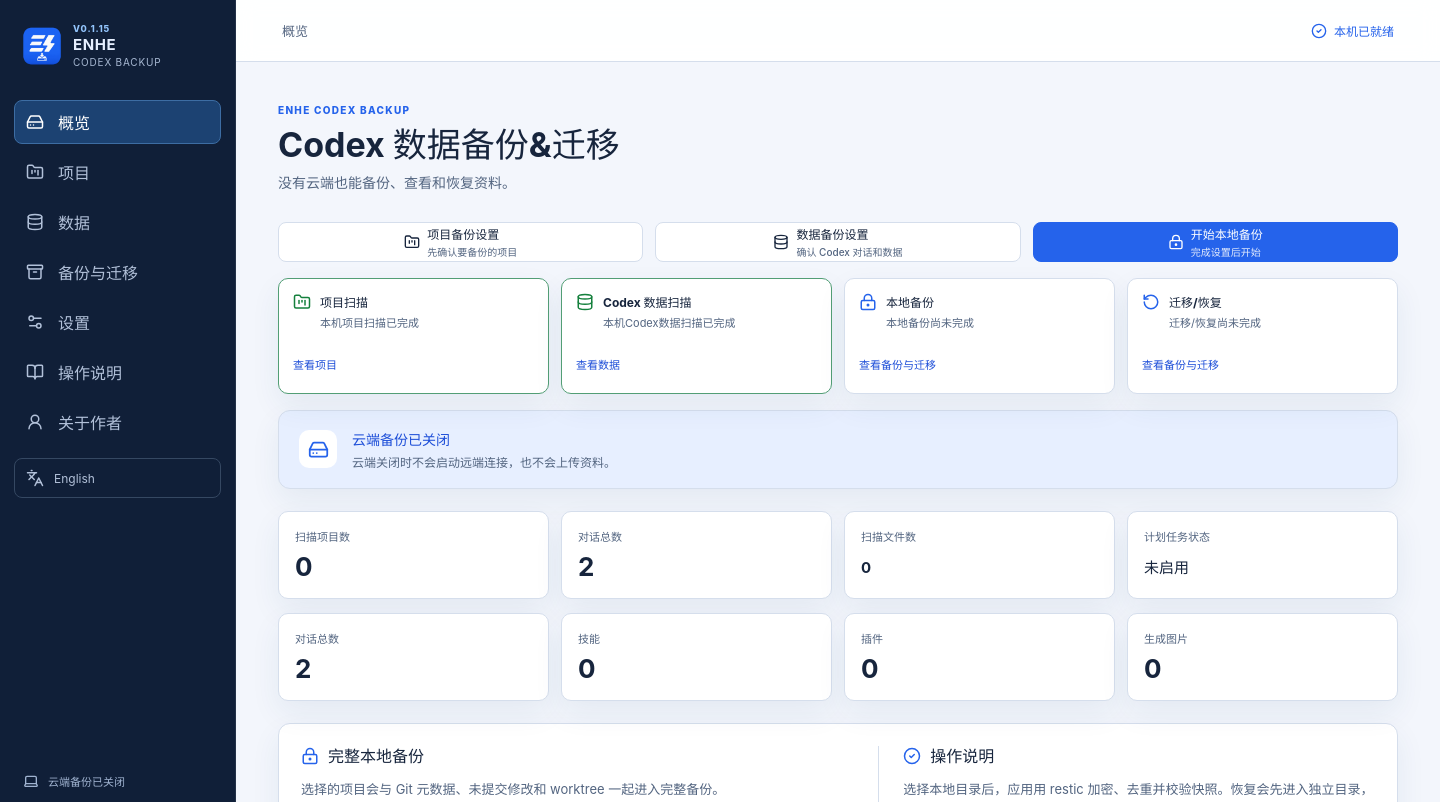
Test case: ENHE Codex Backup shell › does not restart an outstanding file count until it finishes after rescan
The width and height of the screenshot is (1440, 802).
Click the button with aria-label "前往项目". click: (118, 172)
box: [14,150,221,194]
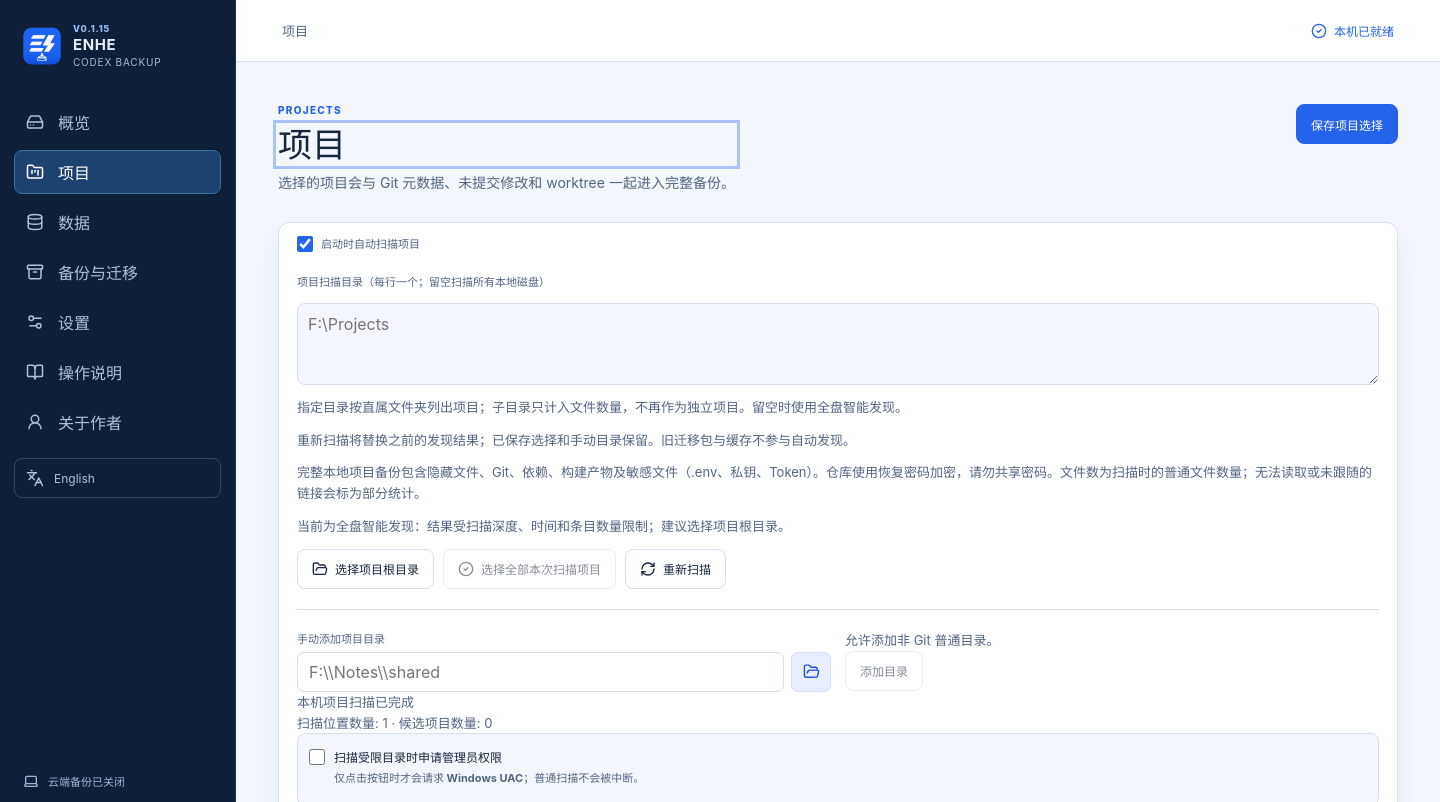
Click the button "重新扫描". click: (676, 569)
box: [625,549,726,589]
(page scrolled)
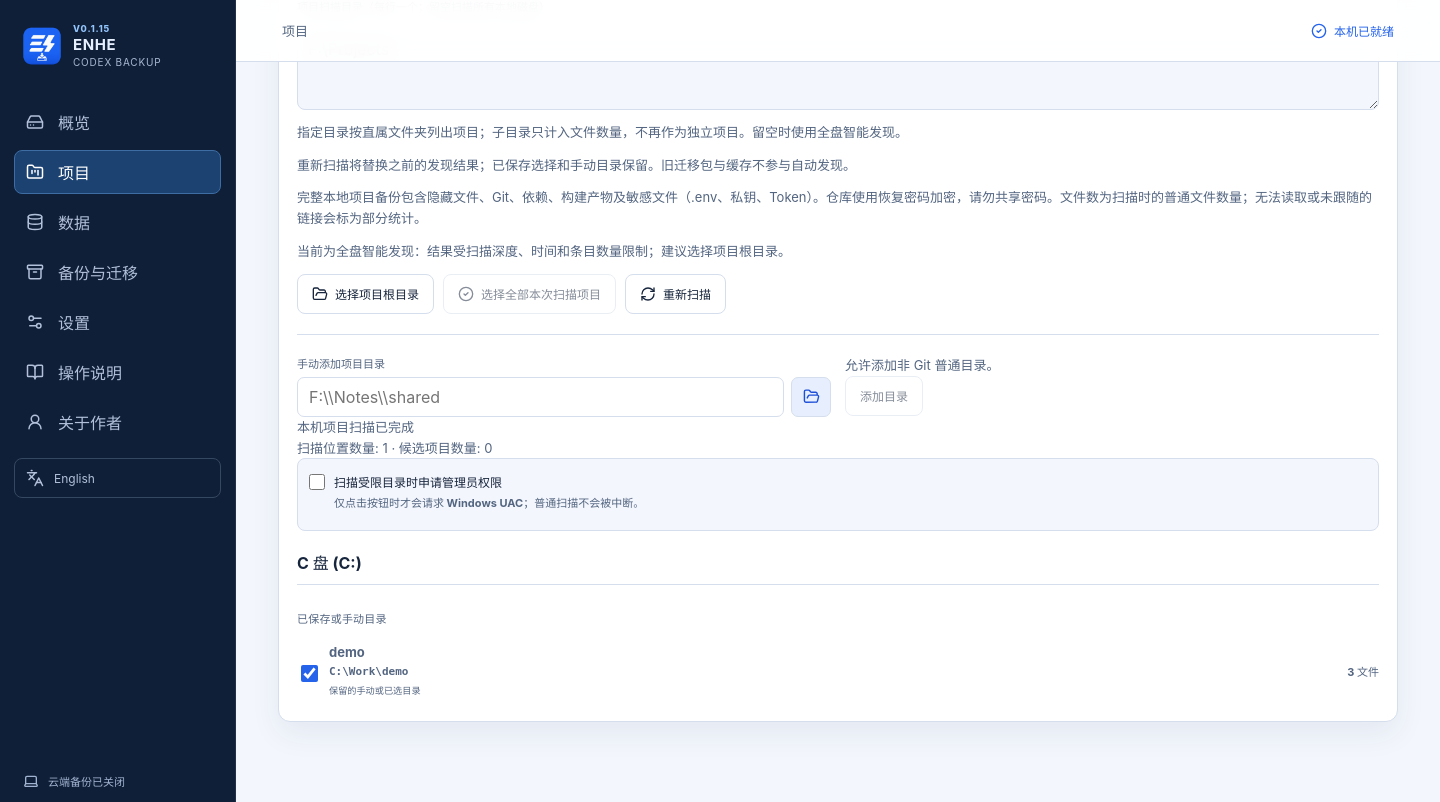
Expected: the text "本机项目扫描已完成" is shown, [297,419,414,435]
Now the text "3 文件" is shown, box [1347,663,1379,679]
